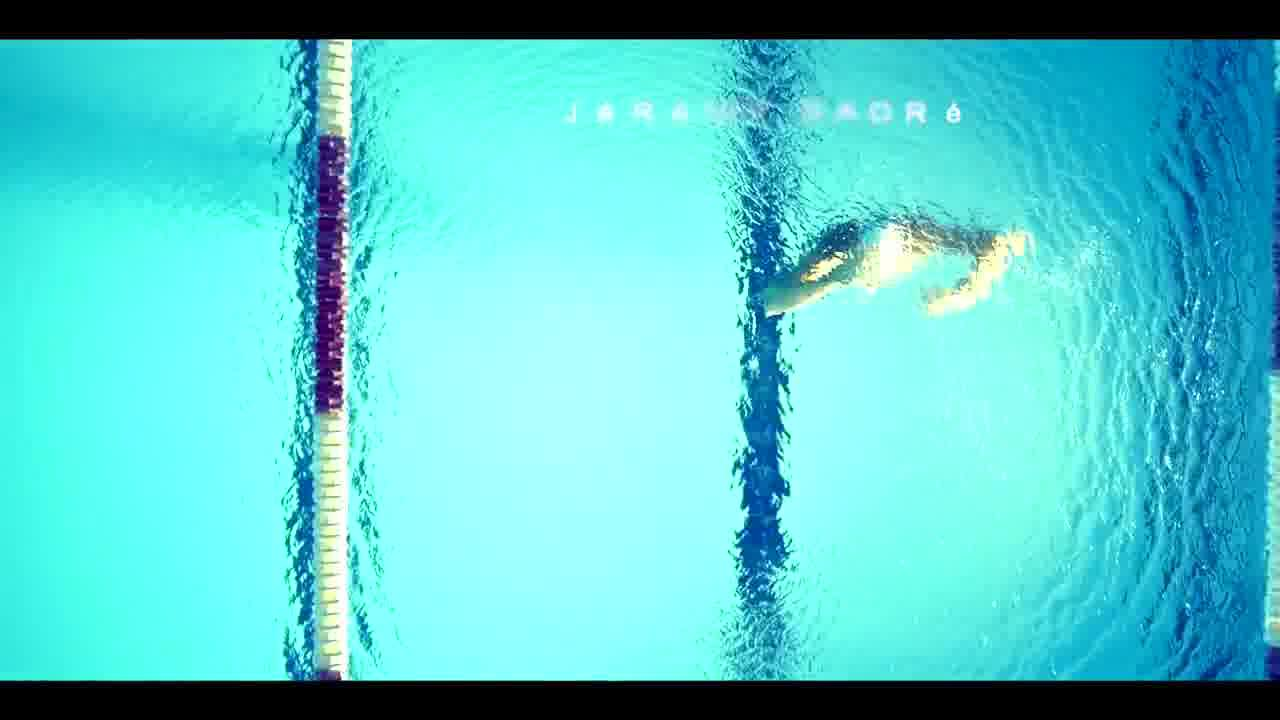swimmer: (761, 185, 1043, 335)
